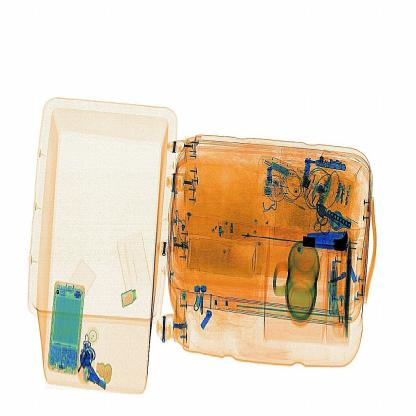knife: (299, 219, 359, 255)
